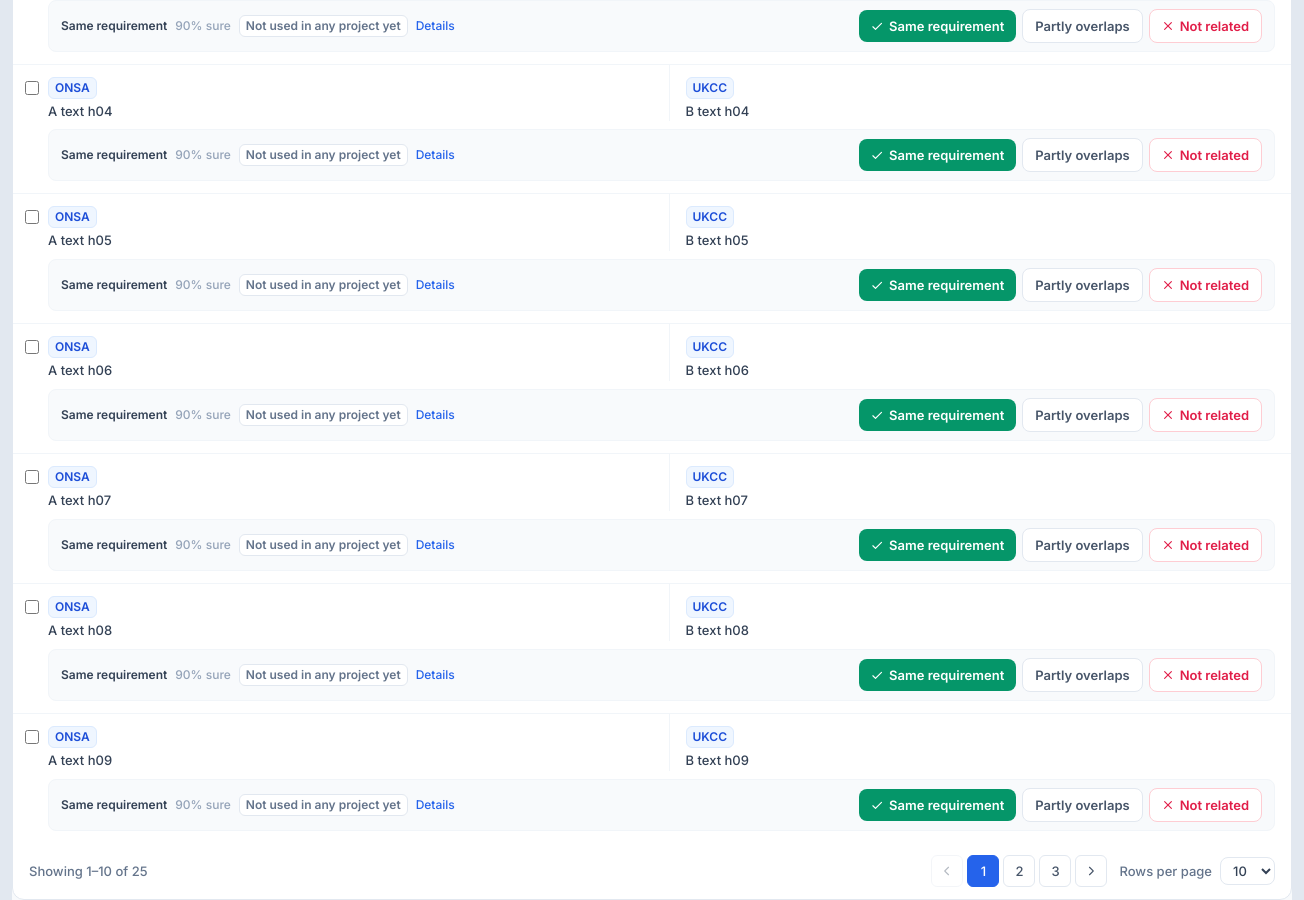
Test case: LinkedItemsPanel tabs and filters › moves between pages of a section, asking the server for just that page
(page scrolled)
Check: the button named "Previous page" is disabled, box [932,855,964,887]
Click the button named "Next page" at (1092, 871), box [1076,855,1108,887]
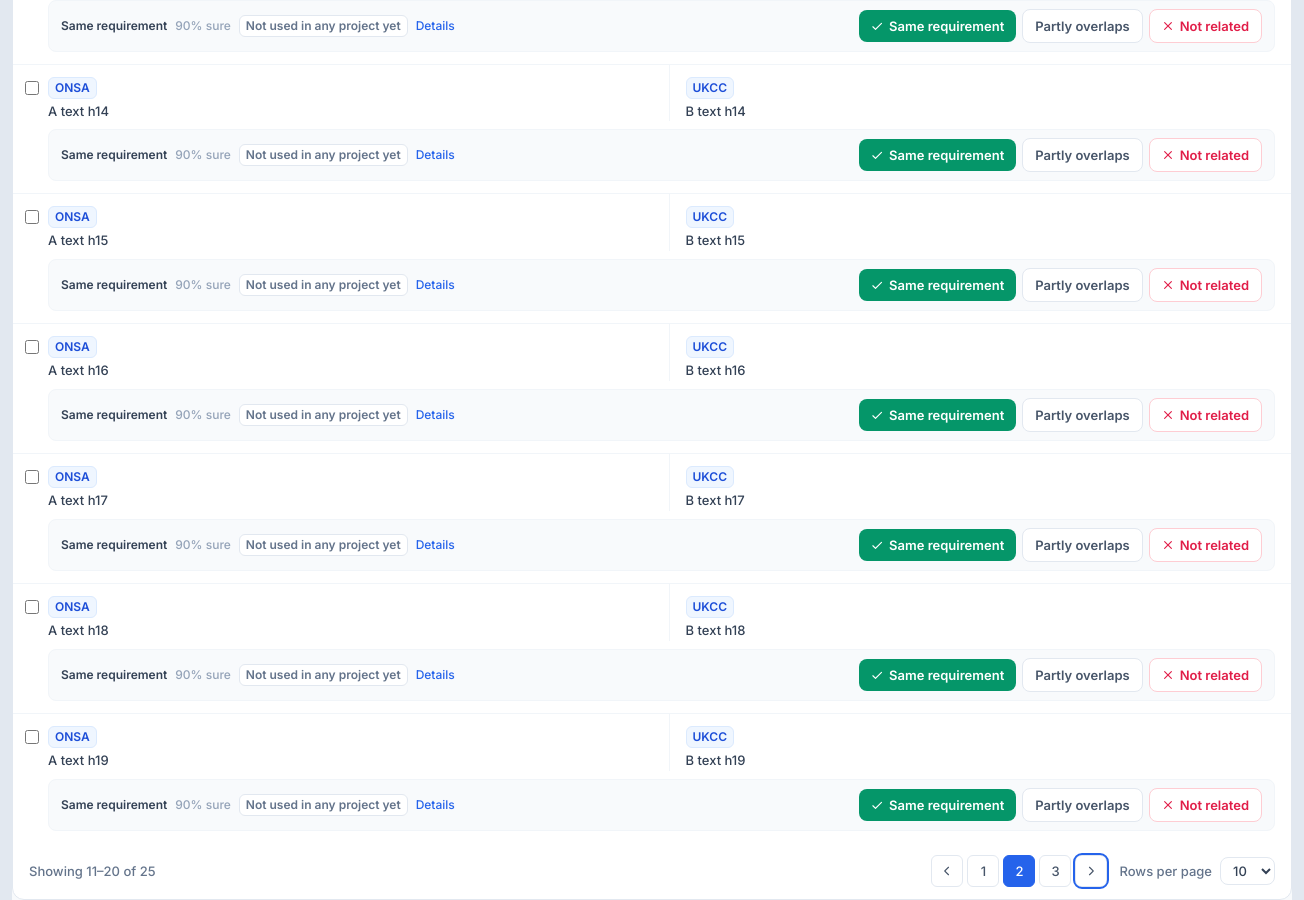
Check: the text "Showing 11–20 of 25" is shown, box [29,861,156,881]
Click the button named "Page 3" at (1056, 871), box [1040,855,1072,887]
(page scrolled)
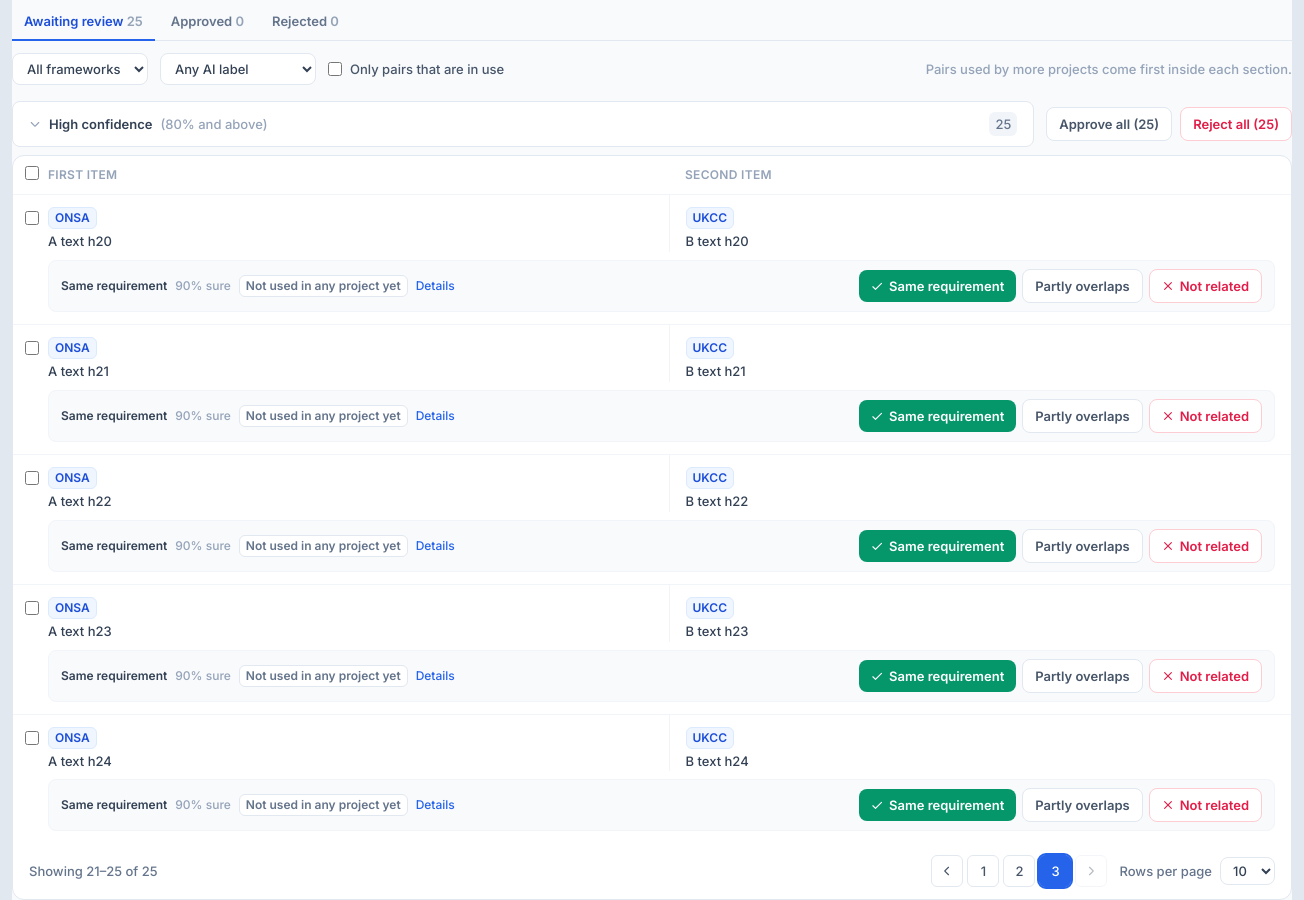
Check: the button named "Next page" is disabled, box [1076,855,1108,887]
Check: the text "A text h24" is shown, box [48,752,112,768]
Check: the text "Showing 21–25 of 25" is shown, box [29,861,158,881]
